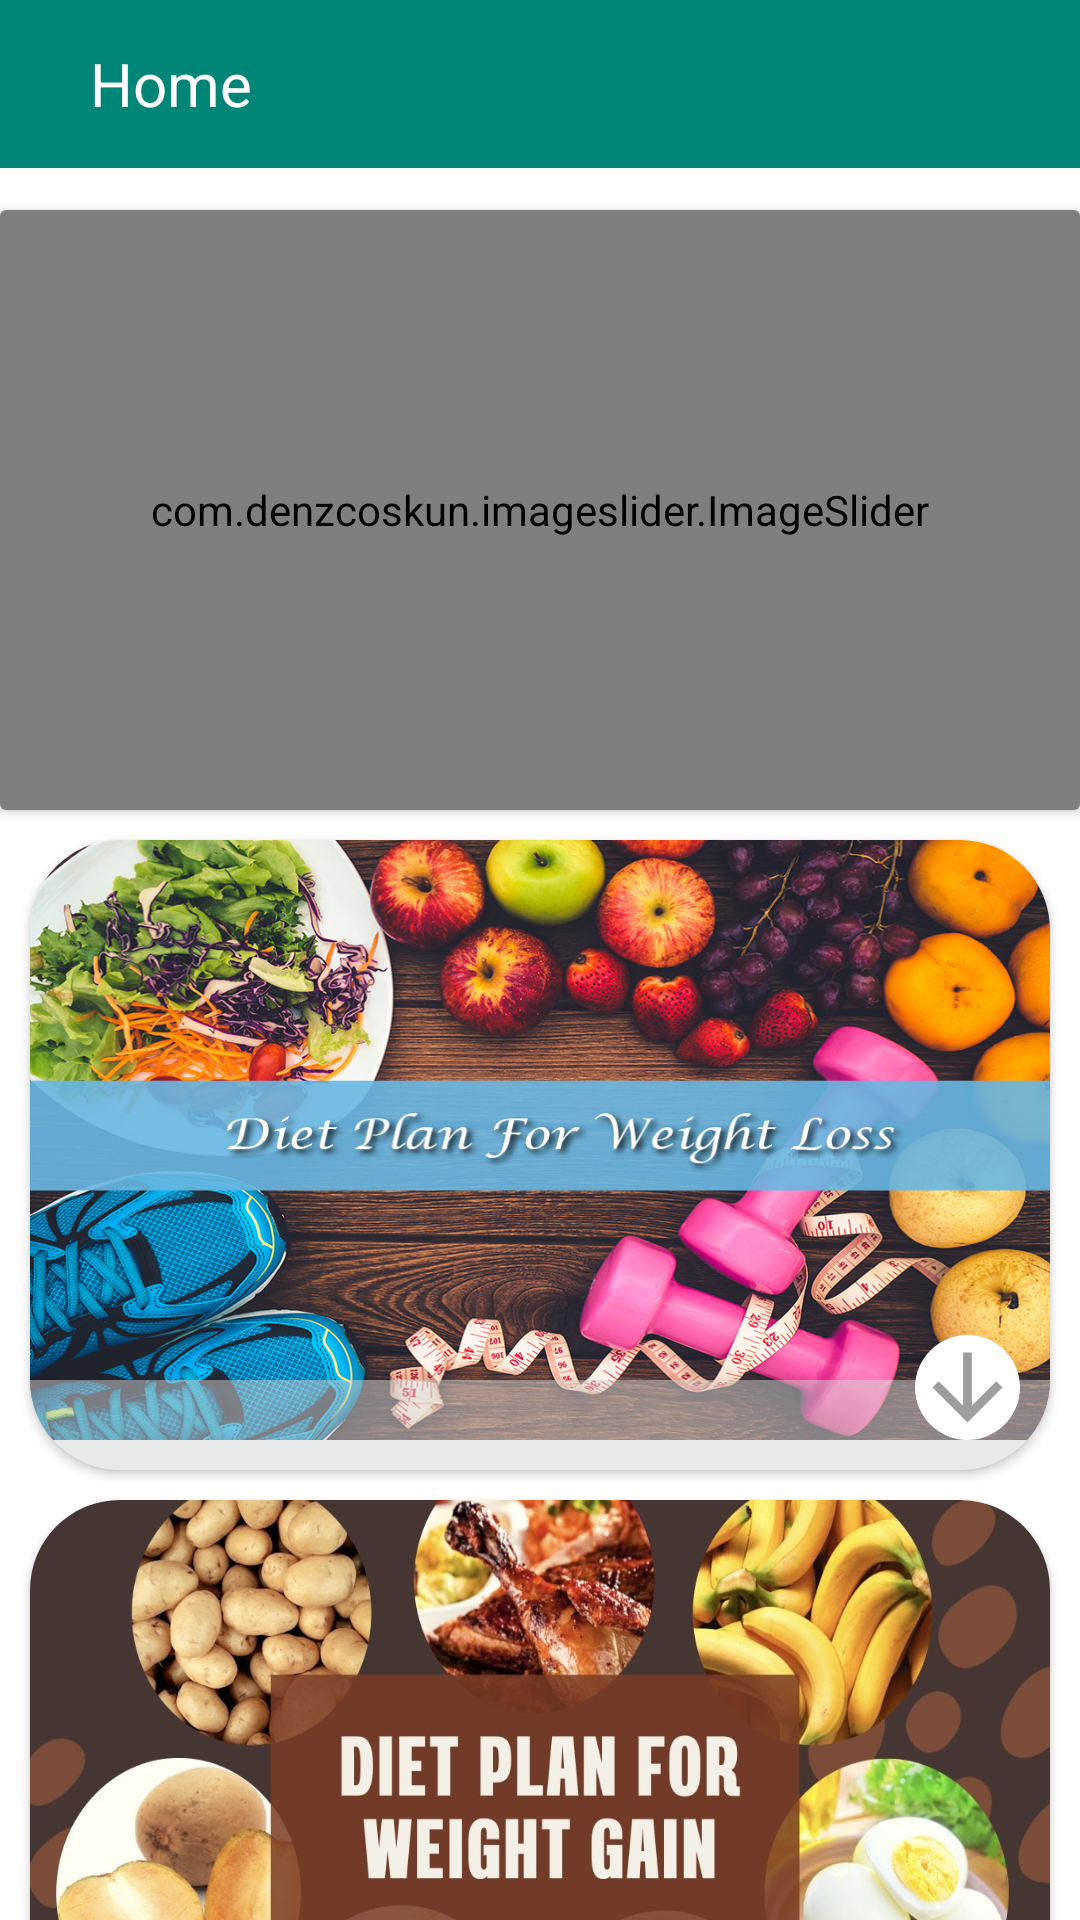

Icons on this 1080 × 1920 Android screen, each with the point to tap as (x,y):
arrow downward: (967,1387)
